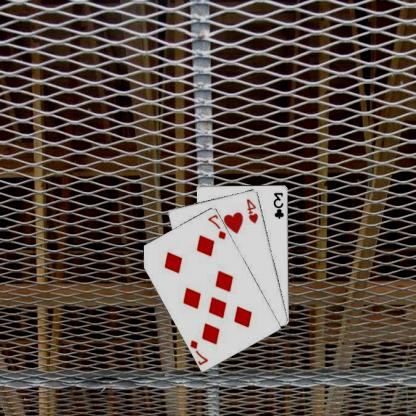3C: (273, 190, 287, 219)
4H: (246, 196, 261, 224)
7D: (207, 211, 229, 240), (190, 337, 211, 365)
